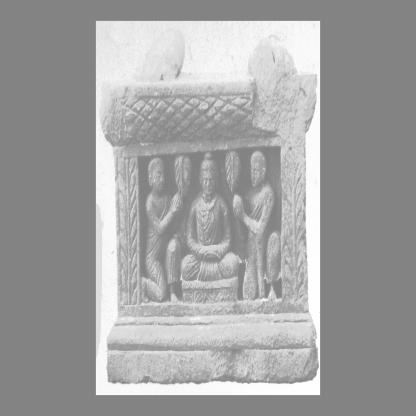buddha-sitting: (180, 152, 239, 302)
